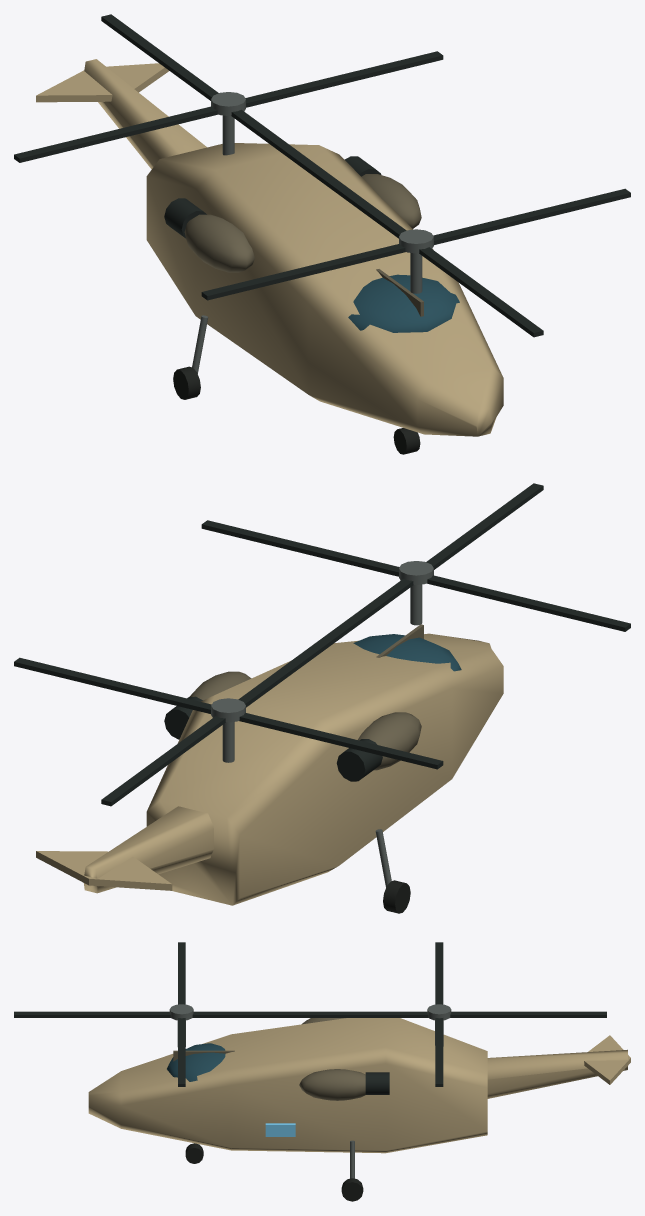
Rendered from transport.glb.
3 views of the same model, one above another, from view 1: azimuth 30°, elevation 25°; view 2: azimuth 150°, elevation 25°; view 3: azimuth 270°, elevation 25° (orthographic). The views are drawn at different scales.
Visible parts, largest first — view 1: armor, dark (×3), trim, glass, steel (×3), rubber; view 2: armor, dark (×3), trim, steel (×3), glass, rubber; view 3: armor, dark (×3), trim, glass, rubber, marking.
Part boxes in pixels (<box>): armor: <box>36,59,503,436</box>; dark (×3): <box>14,14,630,337</box>; trim: <box>184,174,423,316</box>; glass: <box>348,274,459,332</box>; steel (×3): <box>211,92,433,293</box>; rubber: <box>173,366,420,454</box>; armor: <box>36,633,503,905</box>; dark (×3): <box>14,483,630,806</box>; trim: <box>189,624,423,770</box>; steel (×3): <box>211,561,433,762</box>; glass: <box>353,634,461,671</box>; rubber: <box>383,880,410,913</box>; armor: <box>88,1018,630,1153</box>; dark (×3): <box>14,942,606,1094</box>; trim: <box>173,1018,365,1100</box>; glass: <box>167,1043,225,1081</box>; rubber: <box>185,1143,363,1201</box>; marking: <box>265,1123,295,1136</box>.
Bounding box in the file's own units: 5.6 × 2.86 × 10.3.
